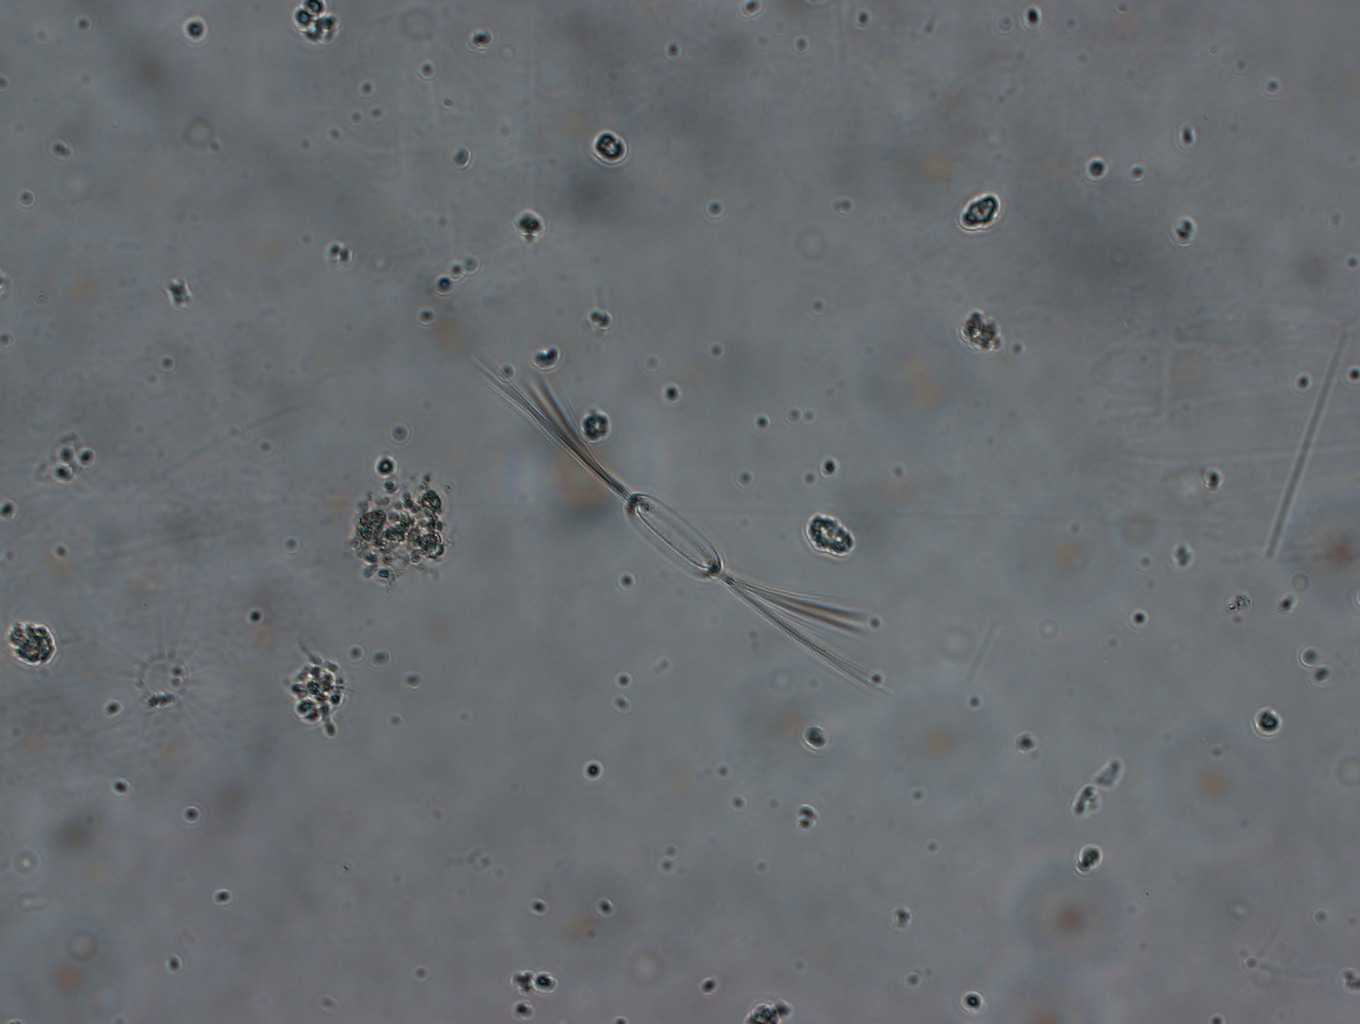chaetoceros: (452, 344, 883, 696)
